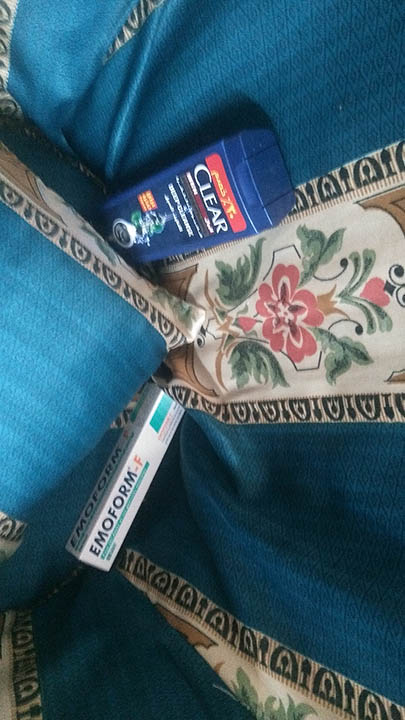Shampoo-Clear 4.7$: (55, 139, 298, 271)
Toothpaste-F 1.5$: (60, 394, 190, 575)
